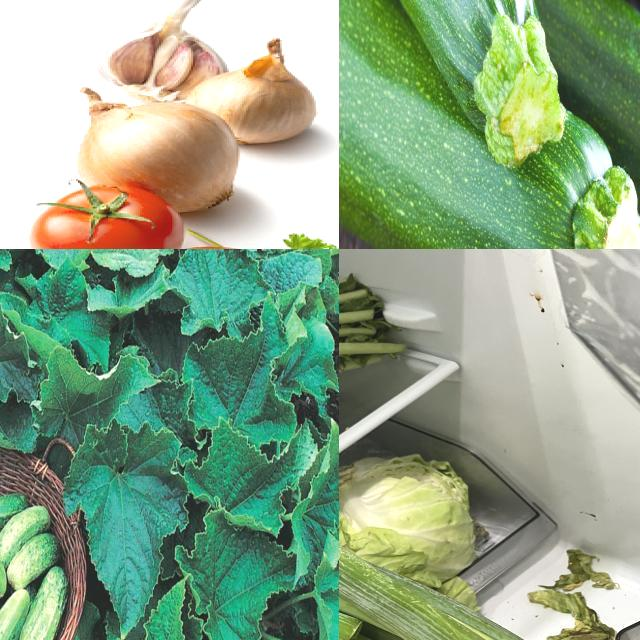cabbage: (340, 452, 479, 589)
cucumber: (1, 498, 54, 567), (21, 564, 69, 640), (1, 587, 27, 640)
onion: (340, 463, 640, 640), (64, 87, 249, 221), (173, 37, 313, 149)
tomato: (24, 183, 186, 250)
zucchini: (340, 1, 640, 250), (404, 1, 640, 250), (340, 1, 568, 169)
